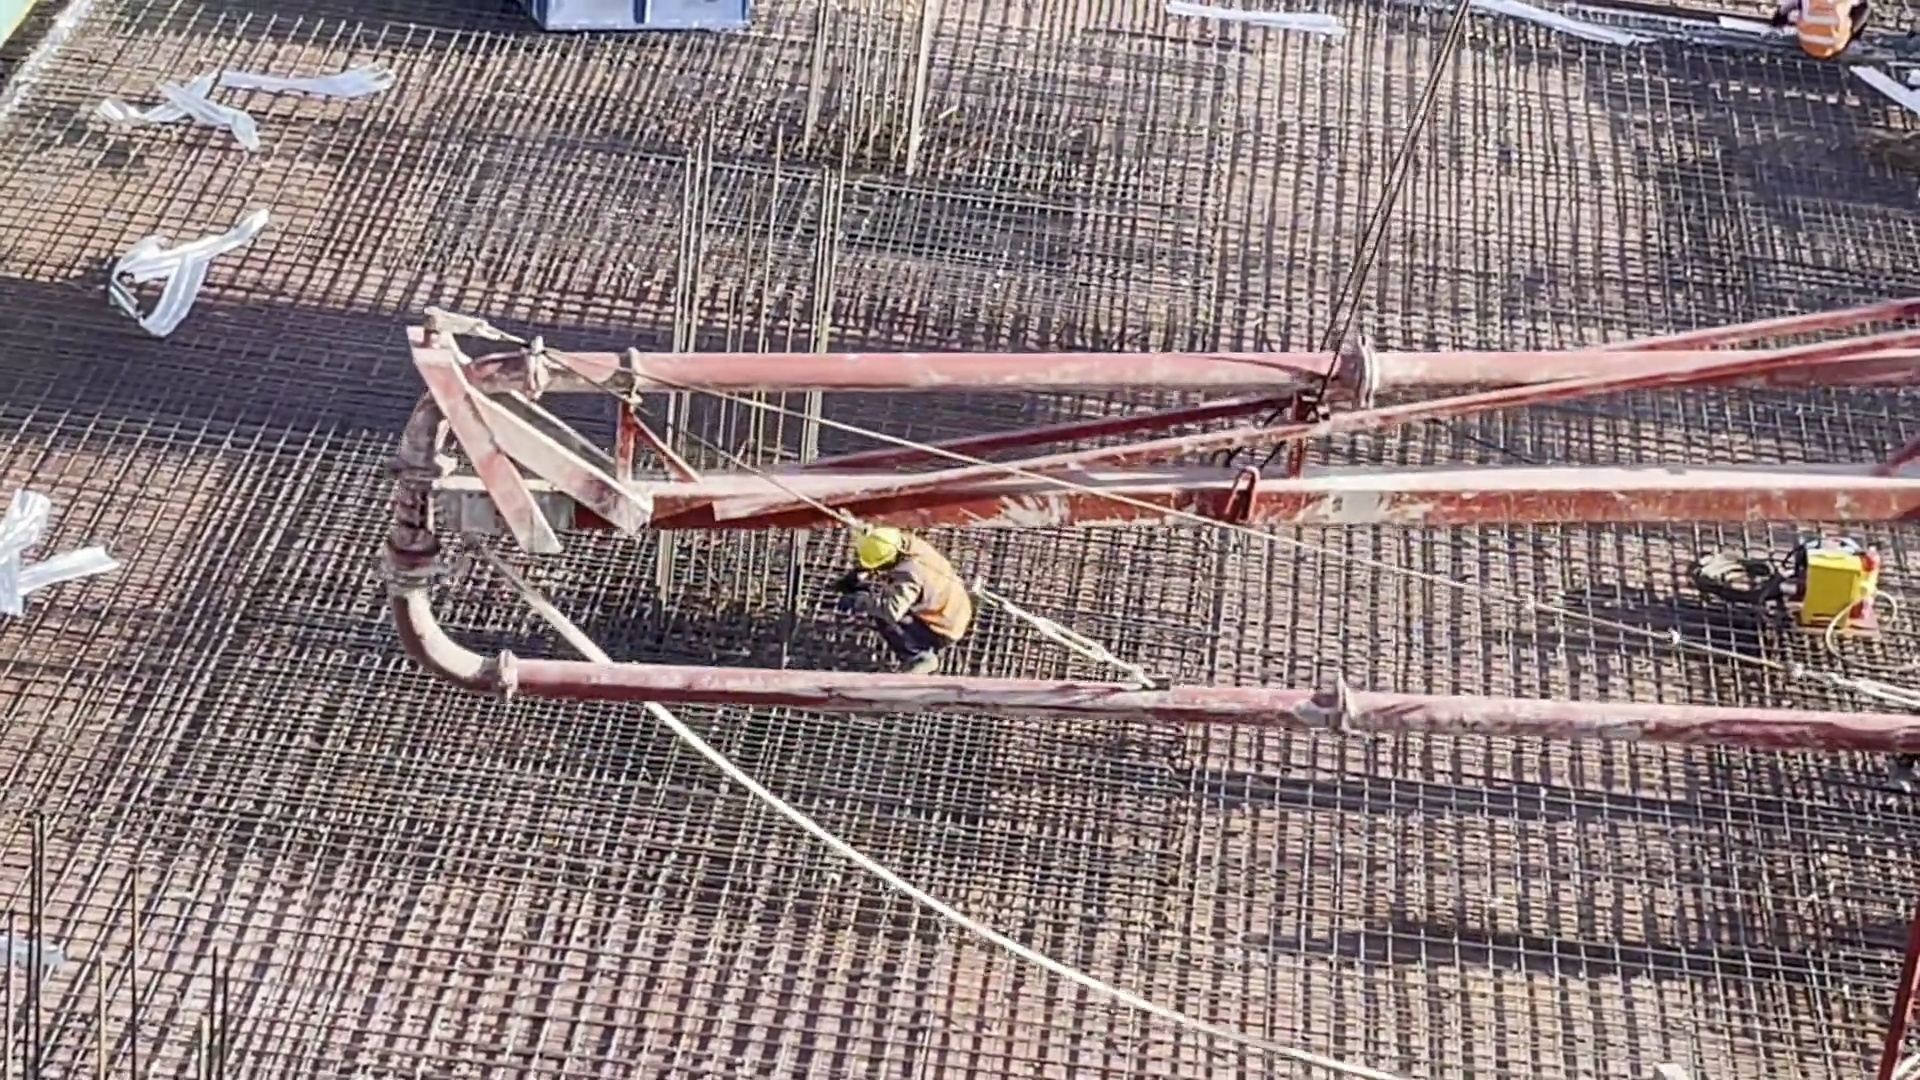helmet: (854, 526, 913, 564)
hopper: (518, 1, 763, 44)
person: (841, 523, 973, 679), (1774, 1, 1865, 57)
vest: (896, 559, 969, 637), (1792, 5, 1851, 70)
